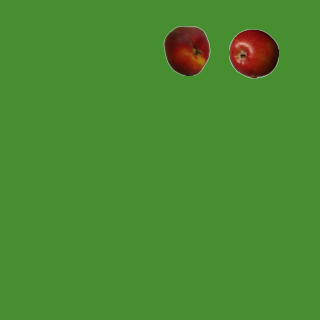Apple Braeburn: (228, 28, 278, 78)
Nectarine Flat: (161, 25, 211, 75)
